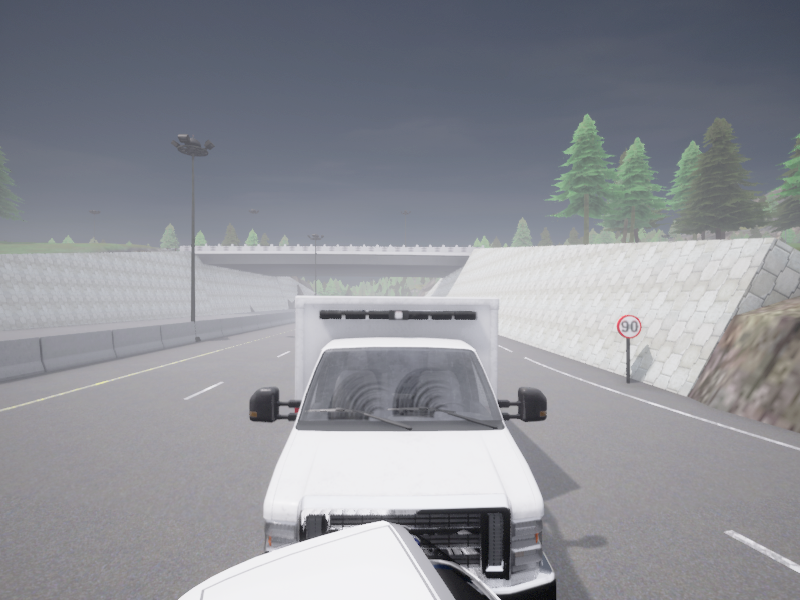vehicle: (249, 296, 556, 599), (178, 521, 499, 599)
